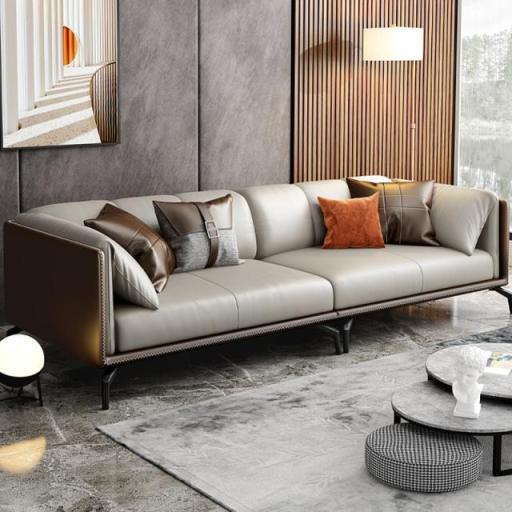sofa: (0, 168, 512, 358)
